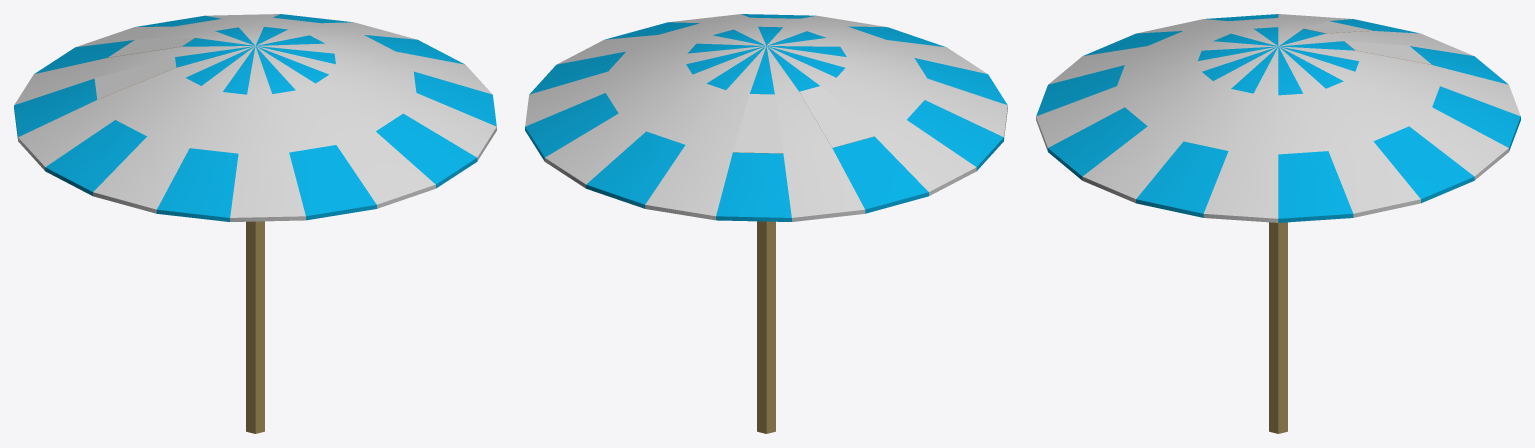
The model's file is BlueUmbrella.fbx.
3 views of the same model, side by side, from view 1: azimuth 30°, elevation 25°; view 2: azimuth 150°, elevation 25°; view 3: azimuth 270°, elevation 25° (orthographic).
Visible parts, largest first — view 1: pCylinder88; view 2: pCylinder88; view 3: pCylinder88.
Boxes of the visible parts, x1,y1,x2,y2 form: pCylinder88: (14, 14, 496, 433); pCylinder88: (525, 14, 1007, 433); pCylinder88: (1036, 14, 1520, 433).
Bounding box in the file's own units: 7.59 × 6.62 × 7.59.
